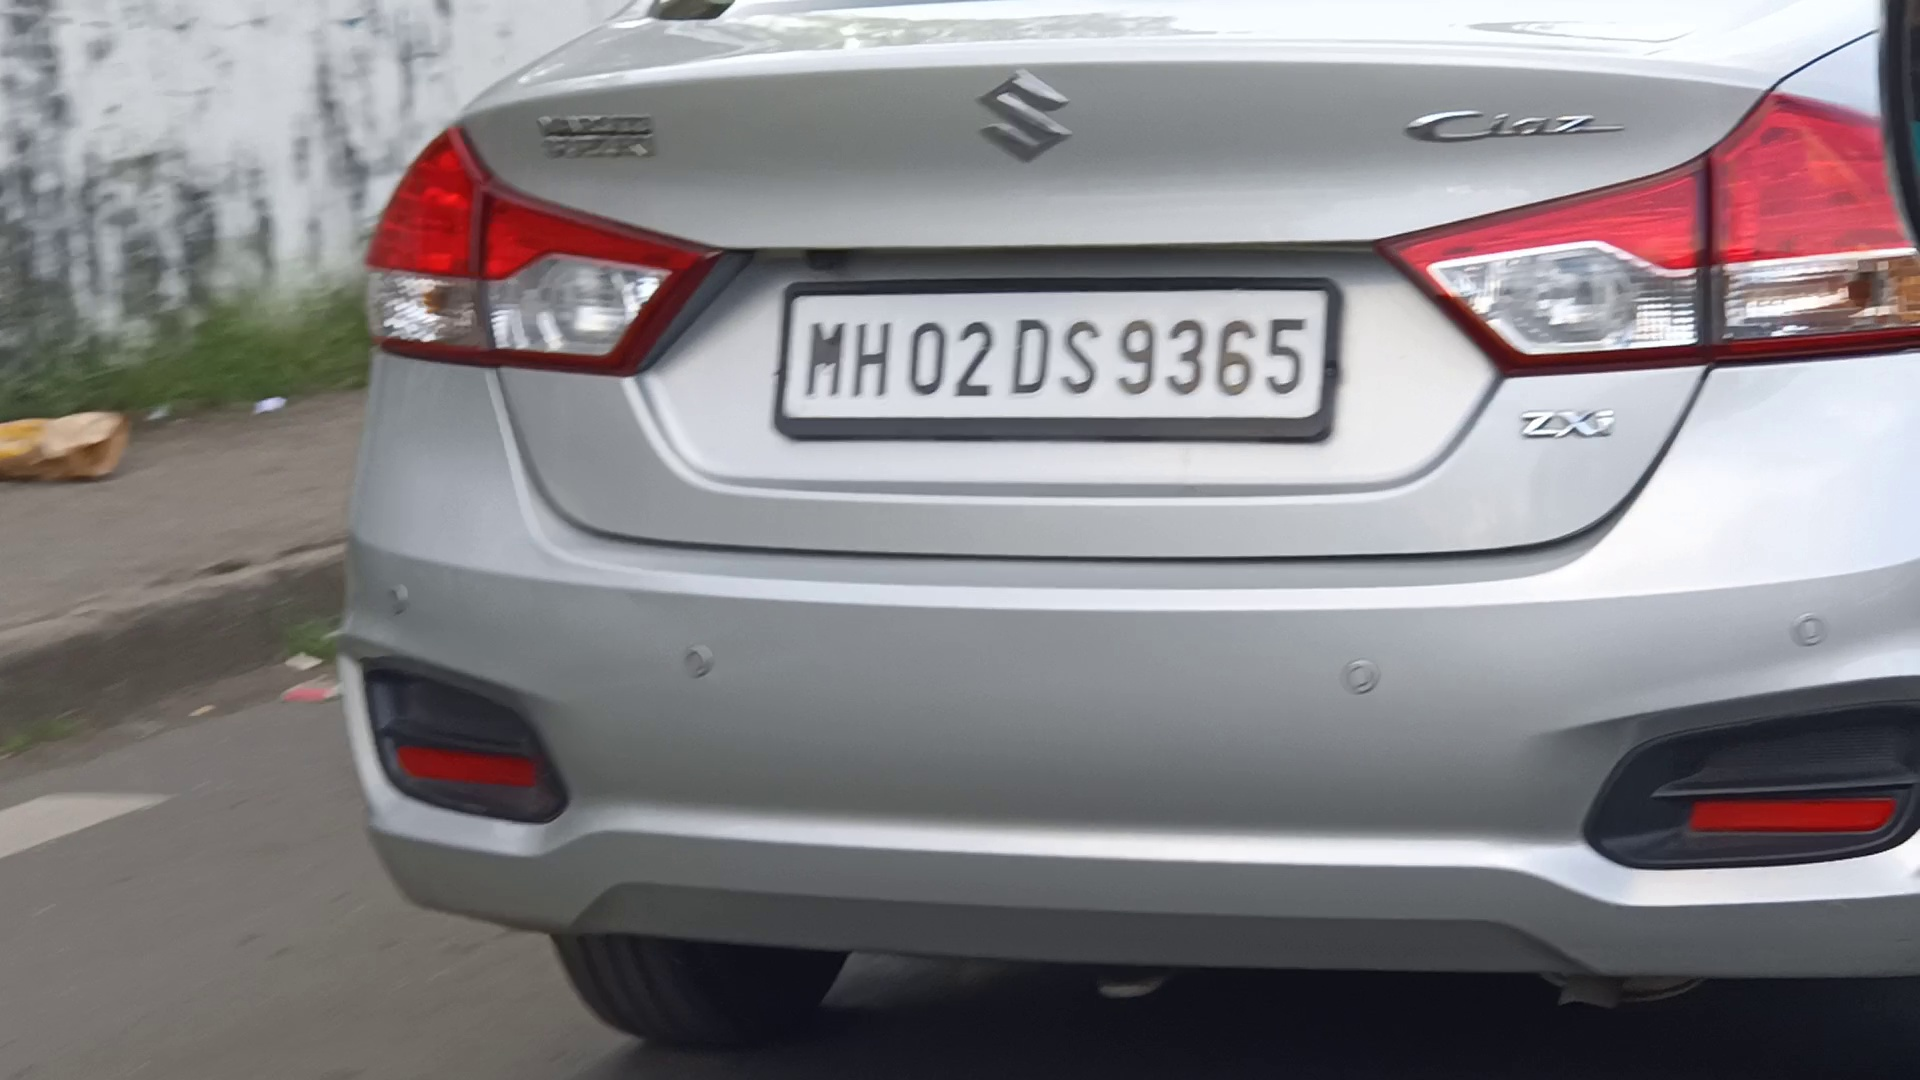MH02DS9365: (784, 288, 1329, 419)
